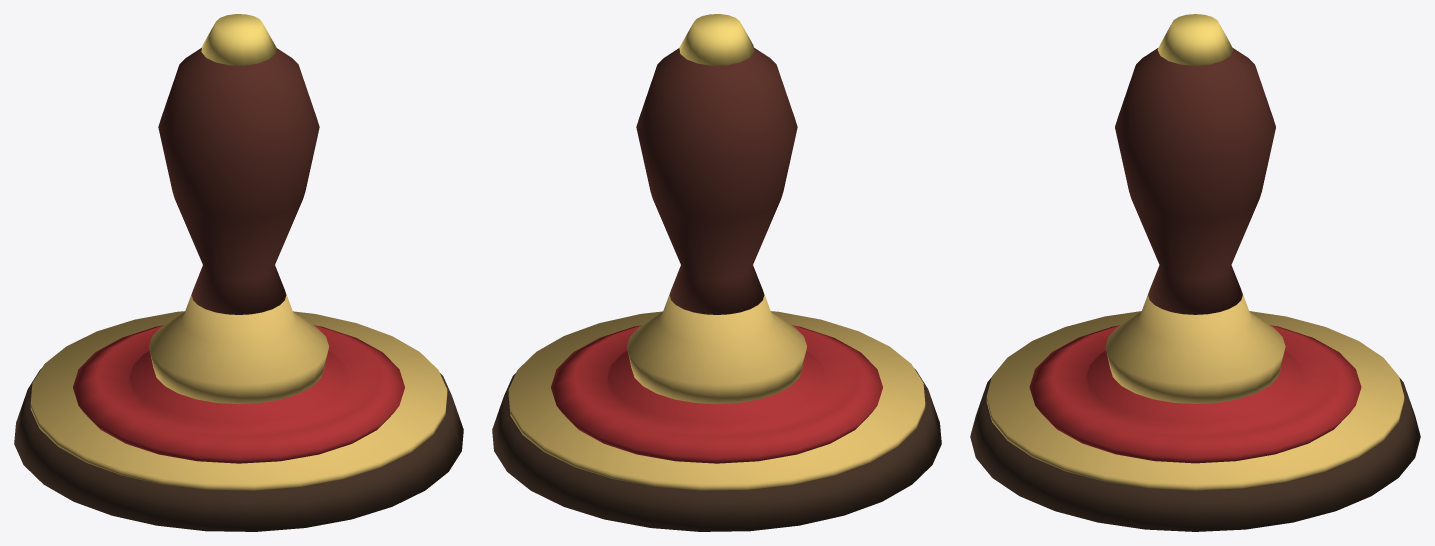
Rendered from settings_wax_stamp.glb.
3 views of the same model, side by side, from view 1: azimuth 30°, elevation 25°; view 2: azimuth 150°, elevation 25°; view 3: azimuth 270°, elevation 25° (orthographic).
Visible parts, largest first — view 1: WoodGrip, WaxDisc, CoasterTrim, CoasterOak, BrassDie, FinialCap; view 2: WoodGrip, WaxDisc, CoasterTrim, CoasterOak, BrassDie, FinialCap; view 3: WoodGrip, WaxDisc, CoasterTrim, CoasterOak, BrassDie, FinialCap.
Part boxes in pixels (x1,y1,x2,y2): WoodGrip: (158, 47, 319, 314); WaxDisc: (73, 325, 404, 463); CoasterTrim: (30, 311, 447, 490); CoasterOak: (14, 368, 463, 531); BrassDie: (149, 292, 328, 404); FinialCap: (201, 14, 276, 65); WoodGrip: (636, 47, 797, 314); WaxDisc: (551, 325, 882, 463); CoasterTrim: (508, 311, 925, 490); CoasterOak: (492, 368, 941, 531); BrassDie: (627, 292, 806, 404); FinialCap: (679, 14, 754, 65); WoodGrip: (1115, 48, 1275, 314); WaxDisc: (1029, 325, 1361, 463); CoasterTrim: (986, 311, 1404, 490); CoasterOak: (970, 377, 1420, 531); BrassDie: (1105, 293, 1285, 403); FinialCap: (1157, 14, 1233, 65).
Size of the model in its own units: 0.19 by 0.192 by 0.19.
